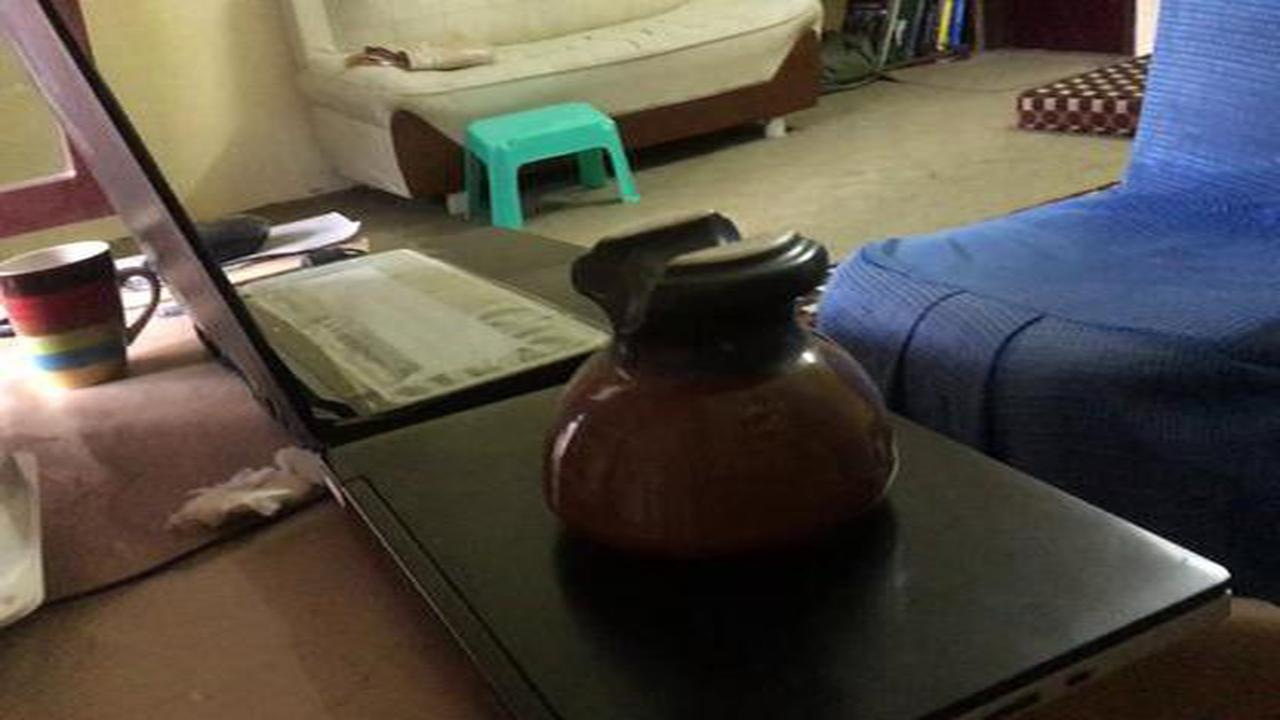insulator_pin: (501, 198, 921, 594)
